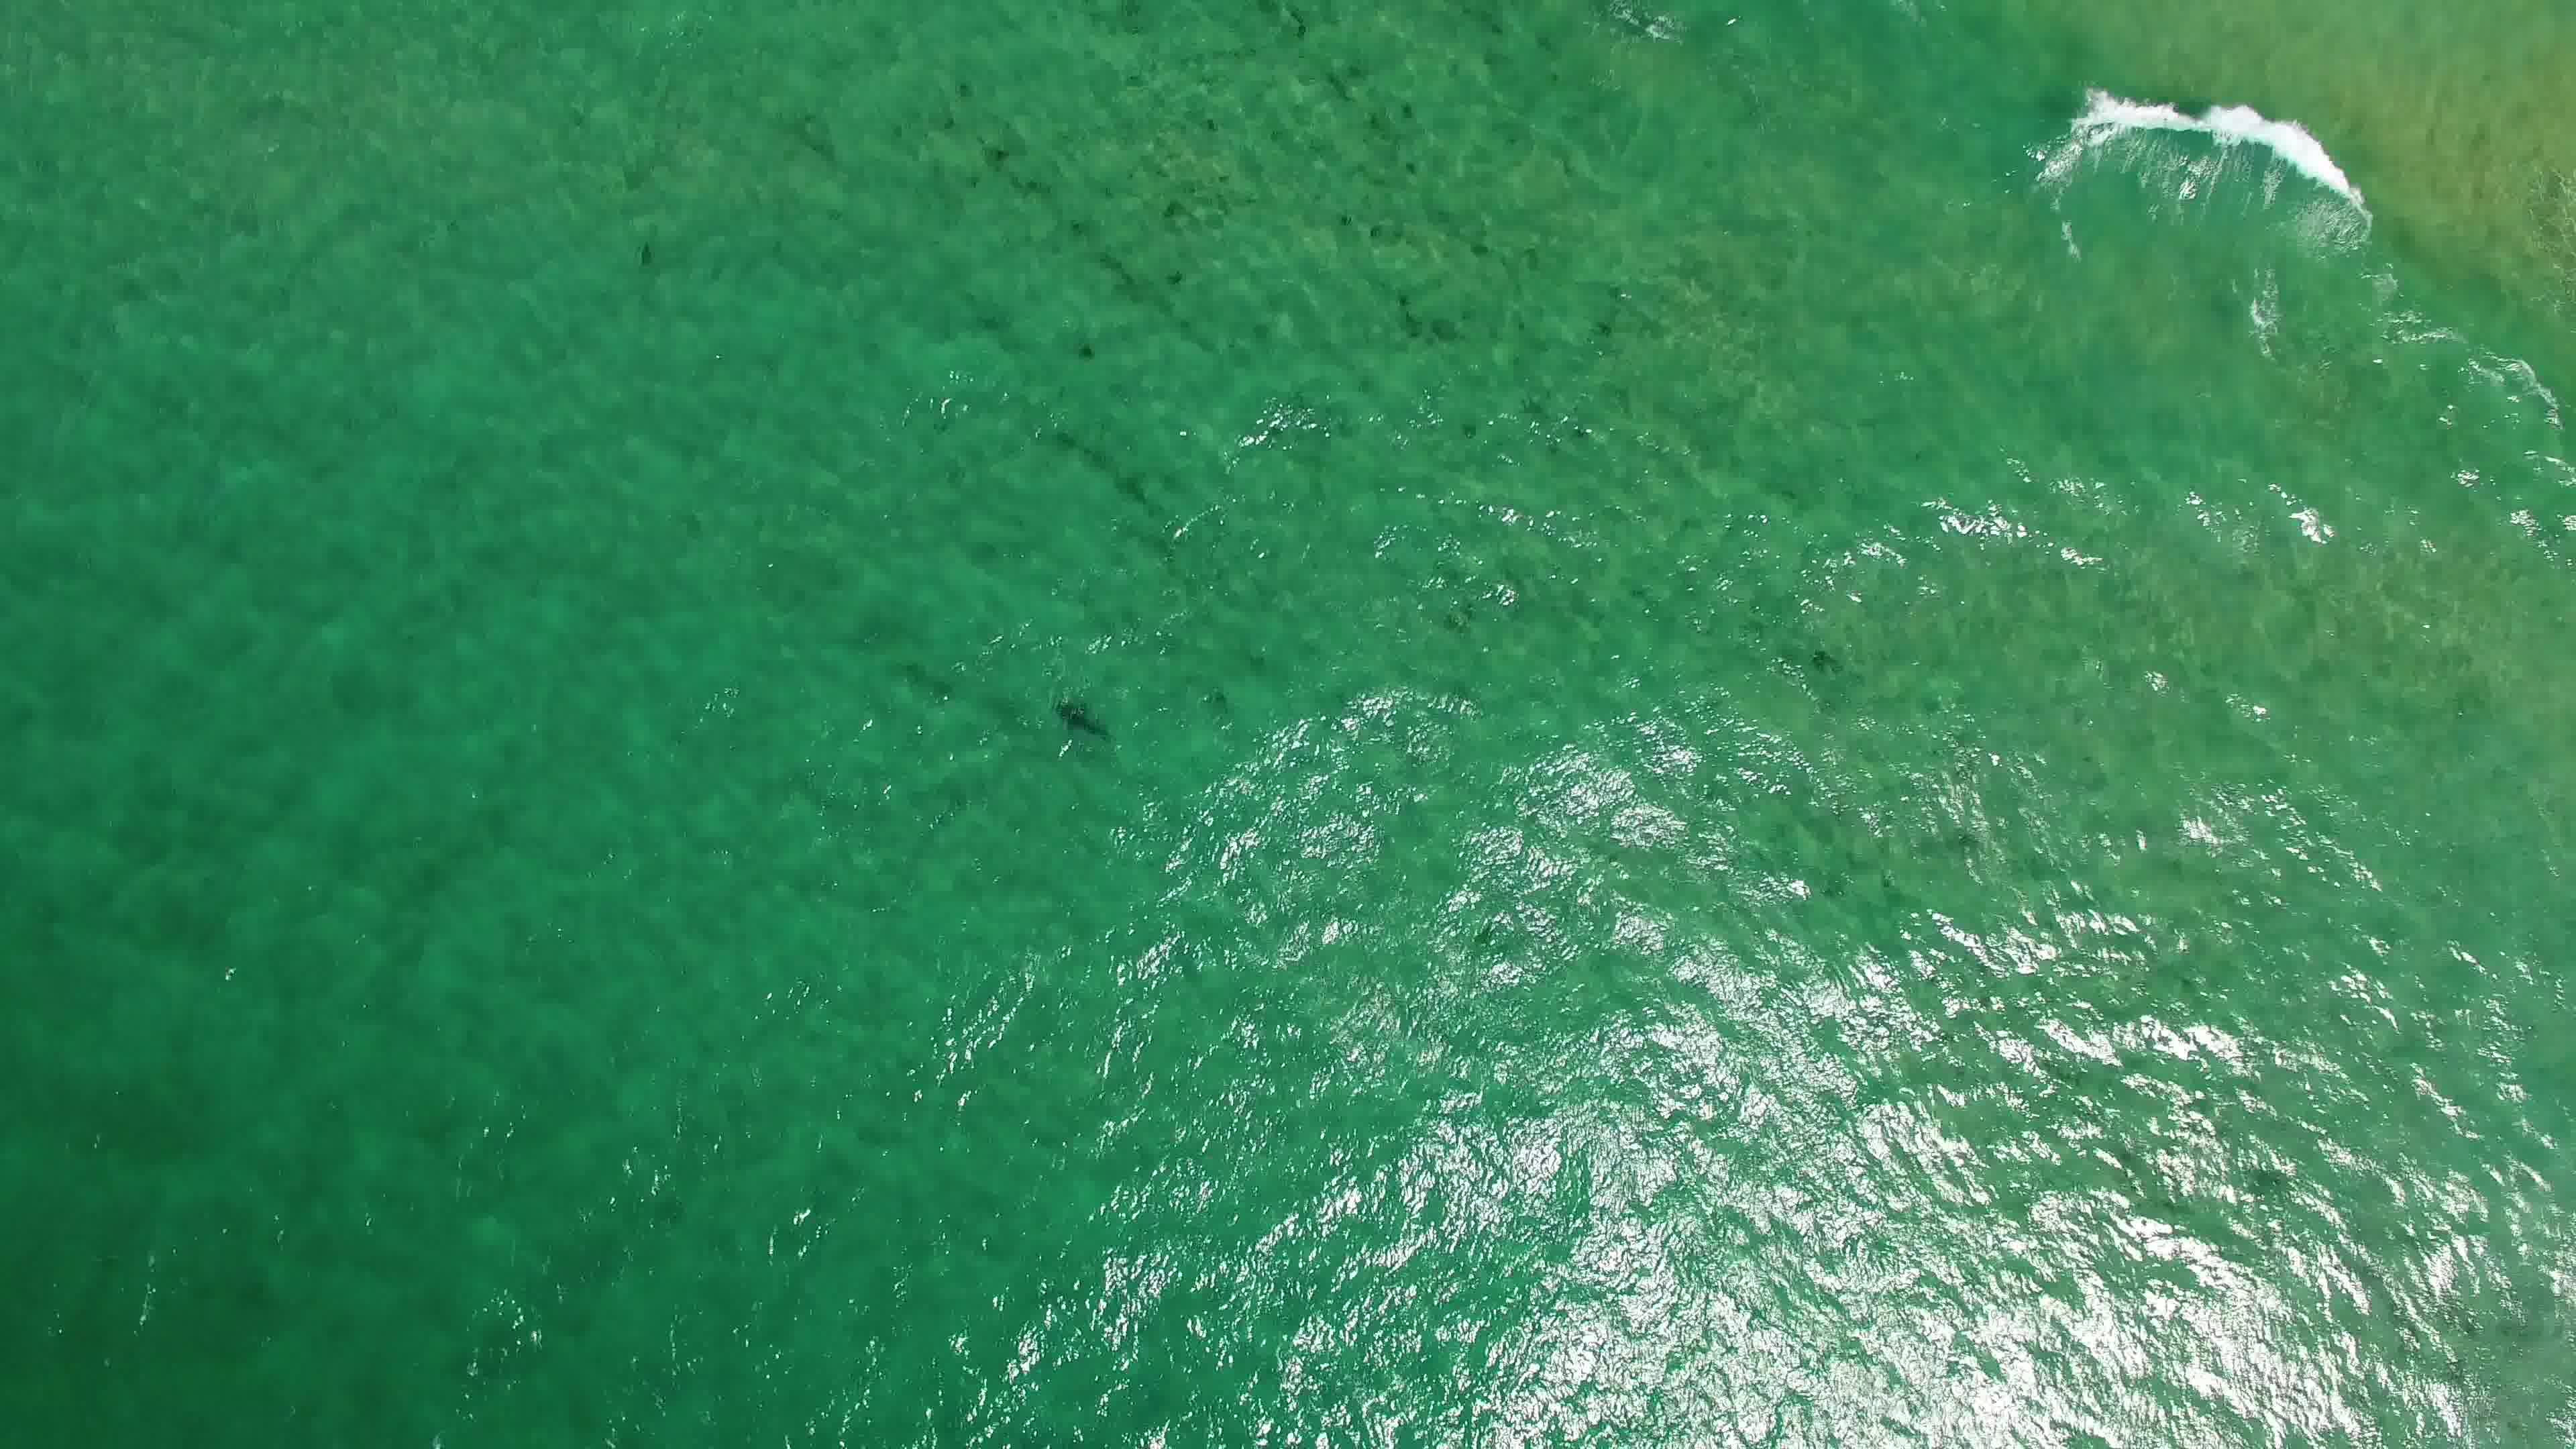shark: (1049, 692, 1116, 747)
